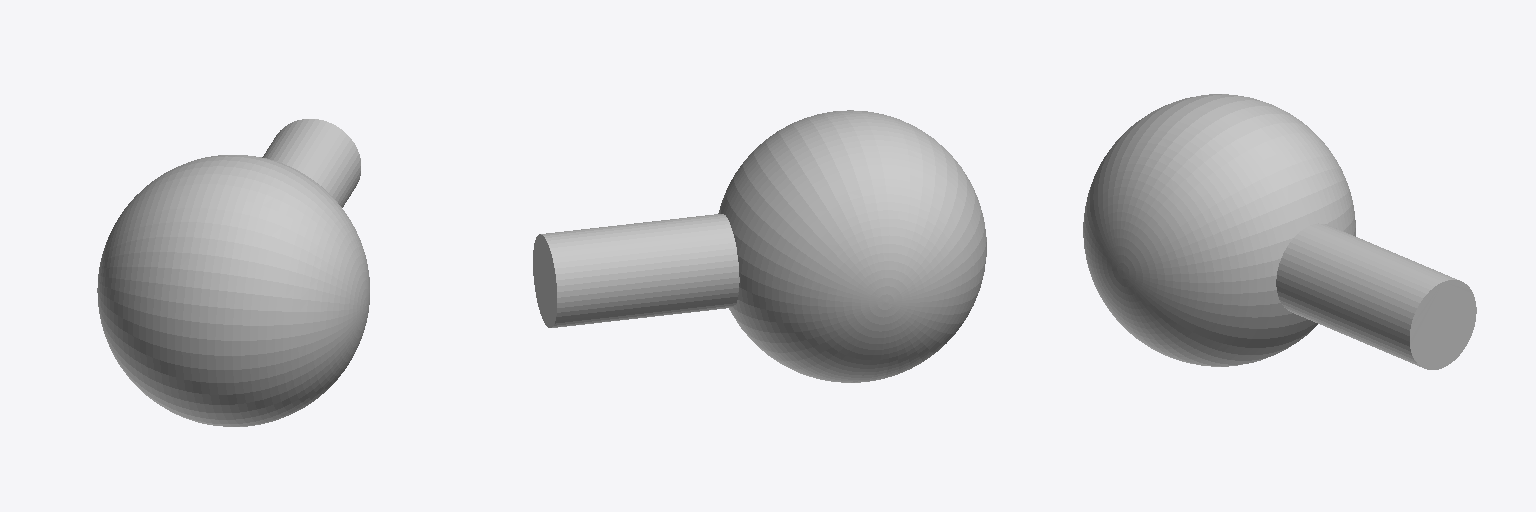
Rendered from Tr-SliderZBoule.obj.
3 views of the same model, side by side, from view 1: azimuth 30°, elevation 25°; view 2: azimuth 150°, elevation 25°; view 3: azimuth 270°, elevation 25° (orthographic).
Visible parts, largest first — view 1: Tr-SliderZ_Slider.001_Cube.004; view 2: Tr-SliderZ_Slider.001_Cube.004; view 3: Tr-SliderZ_Slider.001_Cube.004.
Boxes of the visible parts, x1=… form: Tr-SliderZ_Slider.001_Cube.004: x1=97, y1=119, x2=369, y2=426; Tr-SliderZ_Slider.001_Cube.004: x1=533, y1=110, x2=986, y2=382; Tr-SliderZ_Slider.001_Cube.004: x1=1083, y1=94, x2=1476, y2=369.
Bounding box in the file's own units: 0.0373 × 0.0259 × 0.0373.